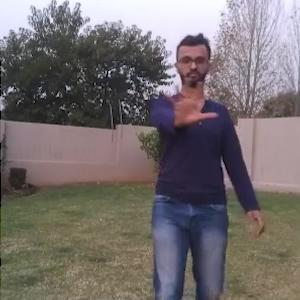follow_hand: (164, 72, 220, 129)
